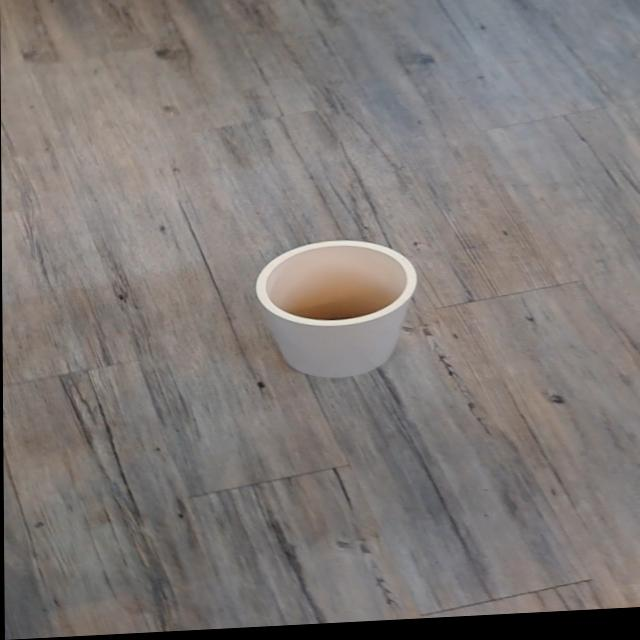CORAL: (222, 209, 455, 393)
